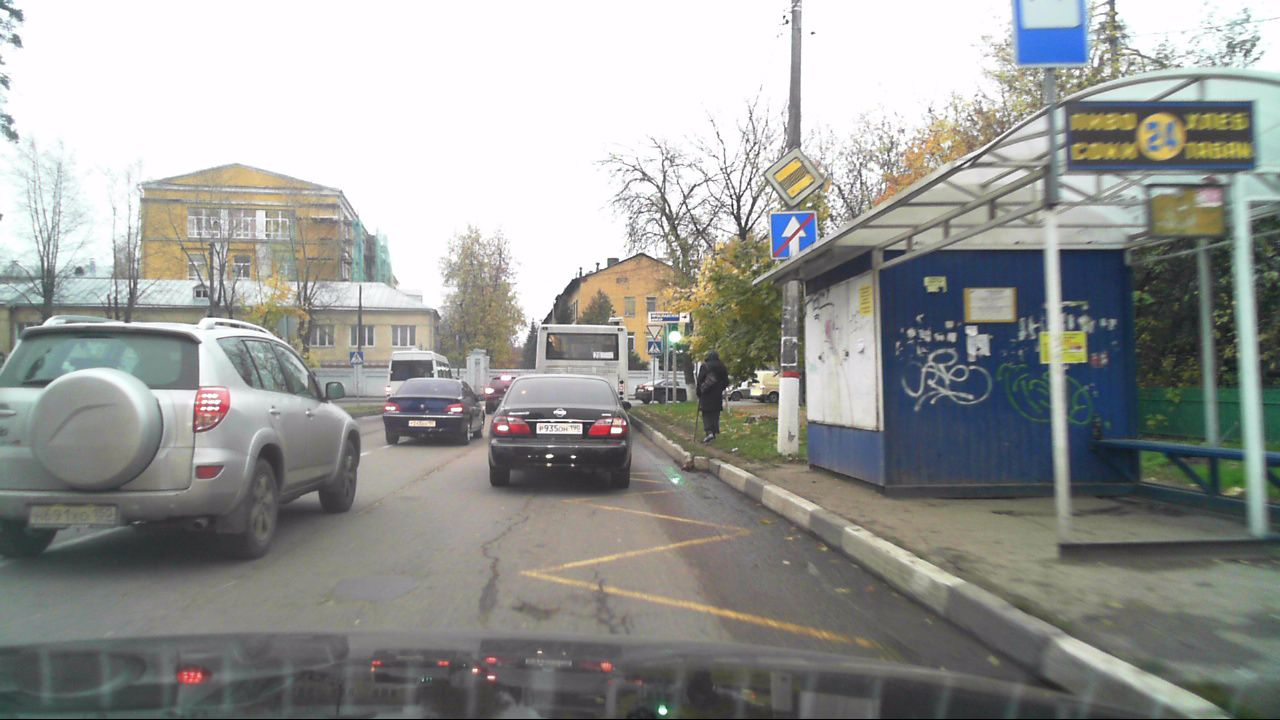main road: (765, 145, 826, 206)
